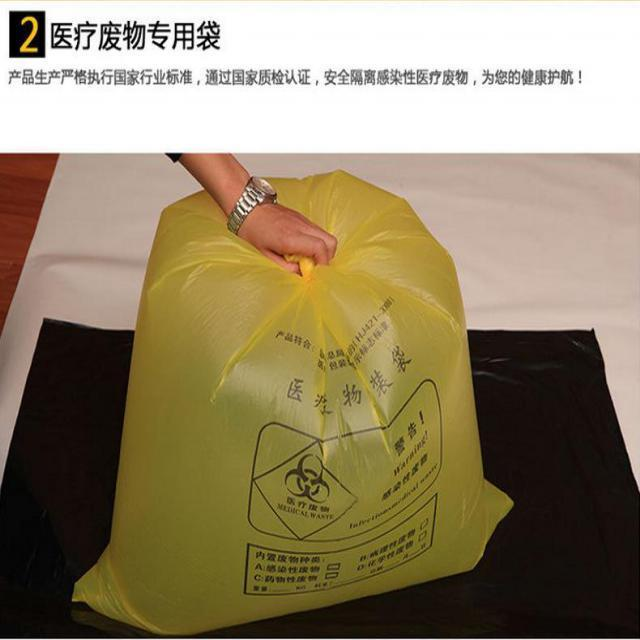waste: (90, 185, 510, 616)
